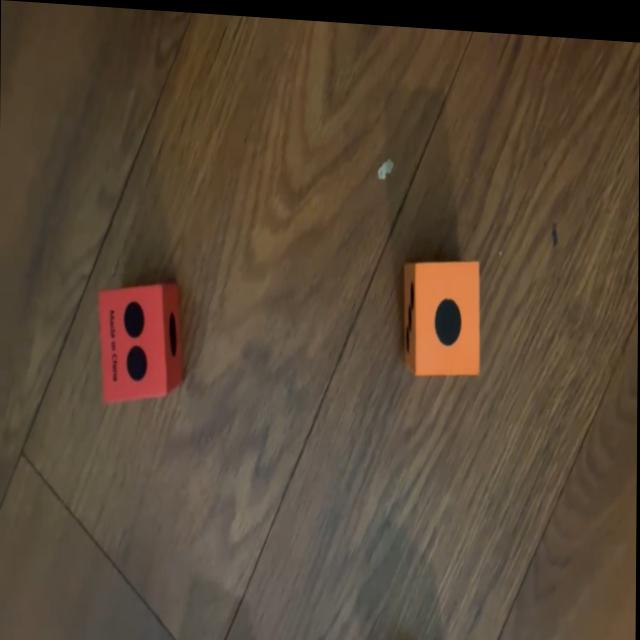red_block: (99, 277, 183, 405)
